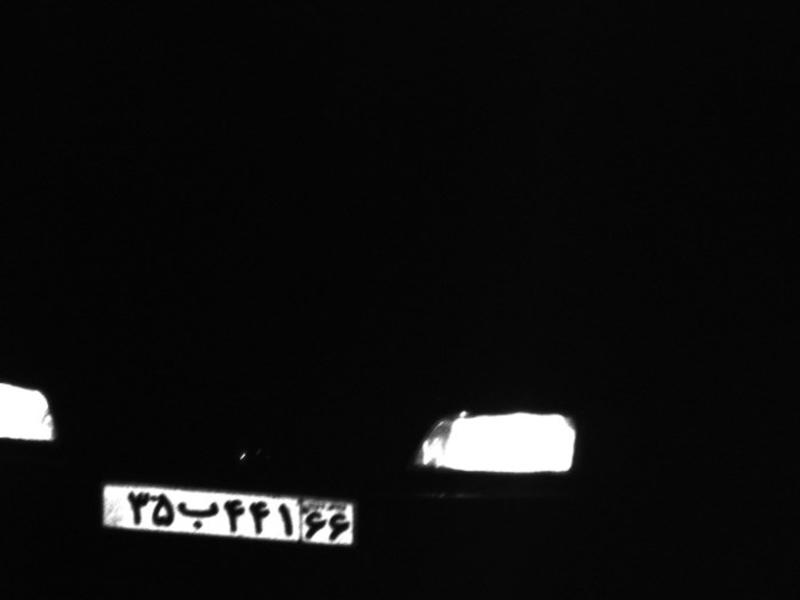Plate: (97, 477, 357, 549)
